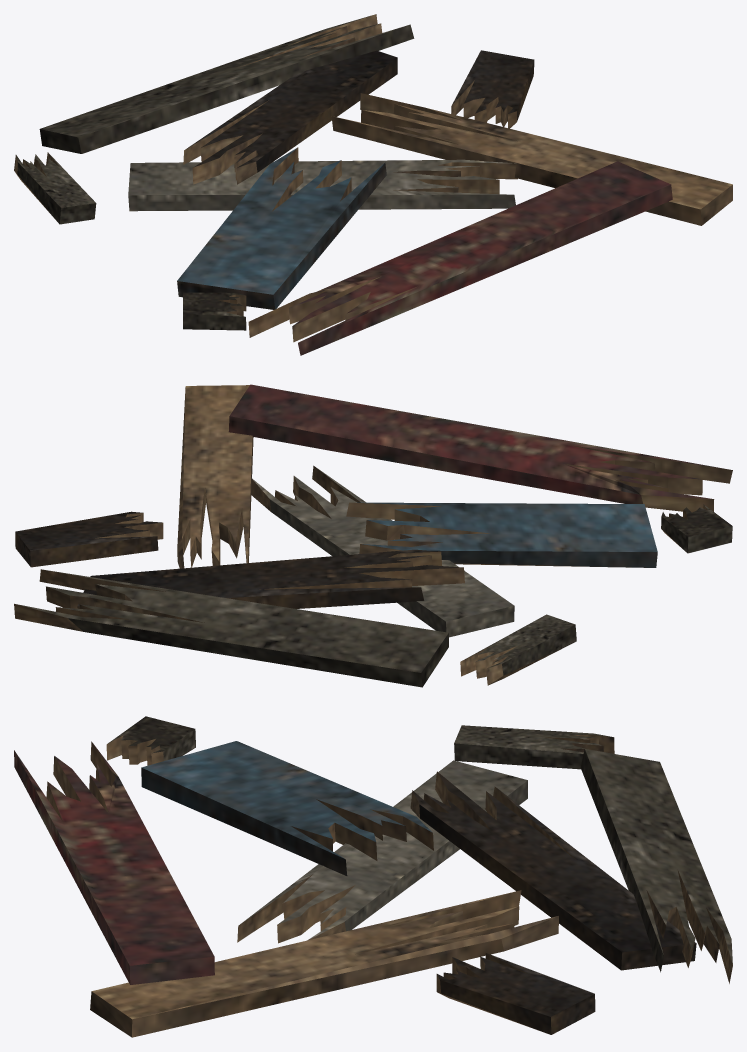
Rendered from Inter_PlankBroken.fbx.
The picture shows the model from 3 angles, top to bottom: view 1: azimuth 30°, elevation 25°; view 2: azimuth 150°, elevation 25°; view 3: azimuth 270°, elevation 25°; orthographic projection. The views are drawn at different scales.
Parts seen in each view (by area): view 1: SM_Plank_01_Broken.mo; view 2: SM_Plank_01_Broken.mo; view 3: SM_Plank_01_Broken.mo.
Part boxes in pixels (x1=…): SM_Plank_01_Broken.mo: x1=14, y1=14, x2=732, y2=355; SM_Plank_01_Broken.mo: x1=14, y1=384, x2=732, y2=687; SM_Plank_01_Broken.mo: x1=14, y1=716, x2=732, y2=1037.
Size of the model in its own units: 192 by 13.49 by 192.
